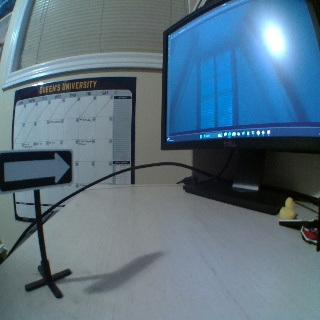sign_oneway_right: (0, 152, 72, 186)
